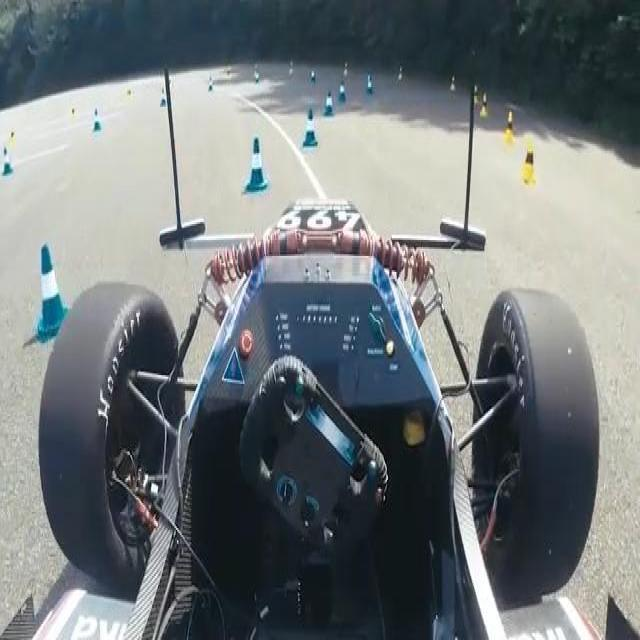blue_cone: (35, 243, 74, 344), (245, 137, 269, 193), (303, 108, 319, 150), (2, 150, 14, 178), (323, 90, 333, 118), (92, 108, 102, 133), (338, 80, 347, 103)
yellow_cone: (519, 137, 537, 184), (503, 110, 515, 143), (479, 94, 489, 119)
